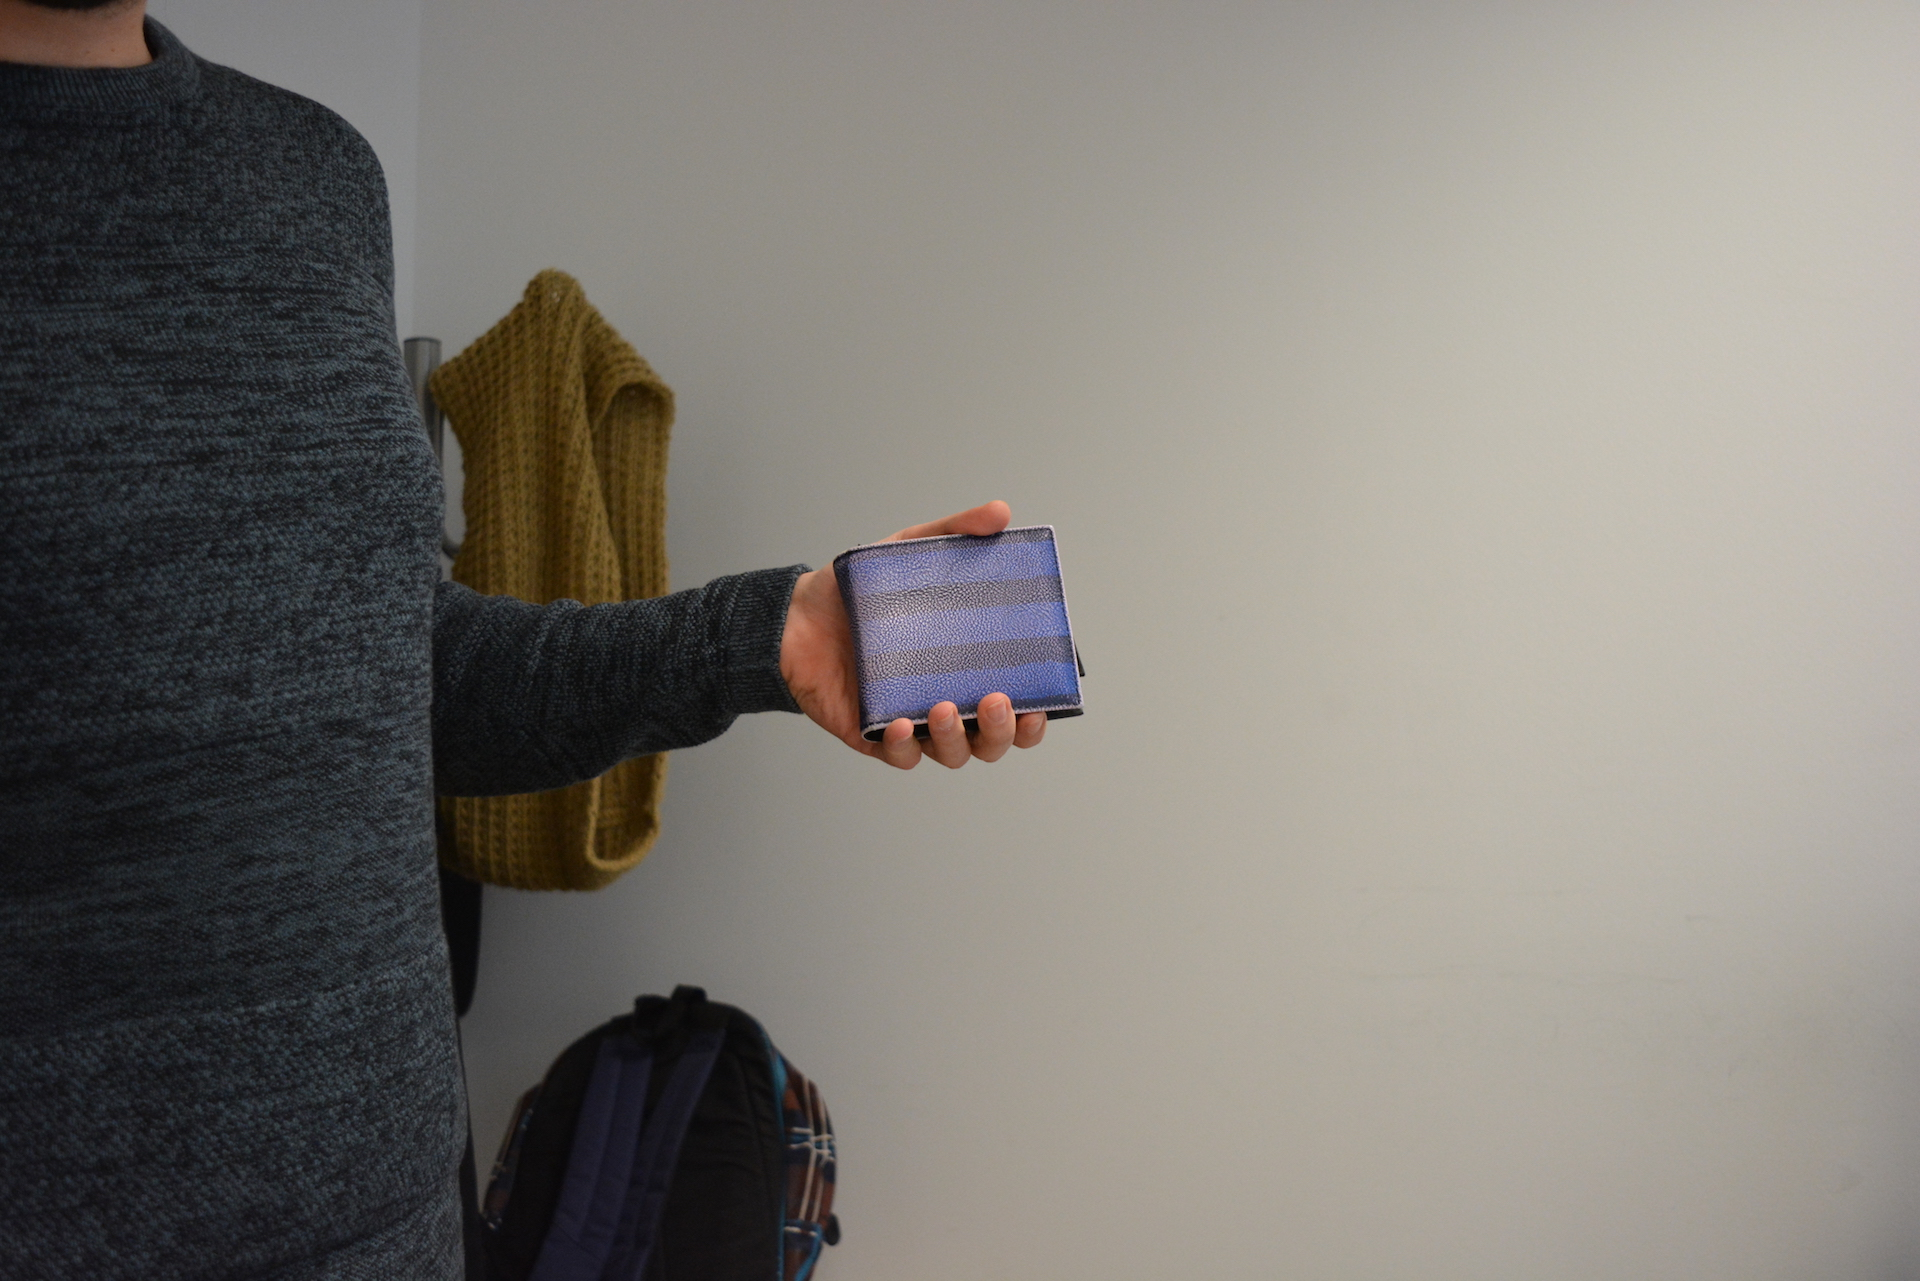monedero: (831, 522, 1089, 746)
